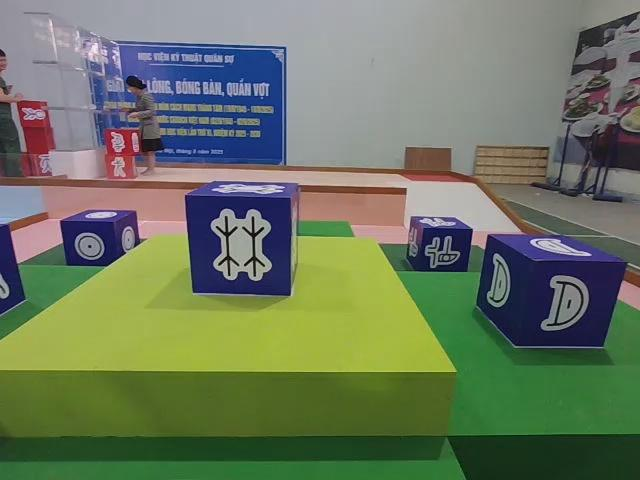R2 Real Blue: (477, 233, 626, 350), (183, 181, 298, 298), (59, 208, 139, 267), (406, 218, 473, 275), (0, 224, 27, 337)
